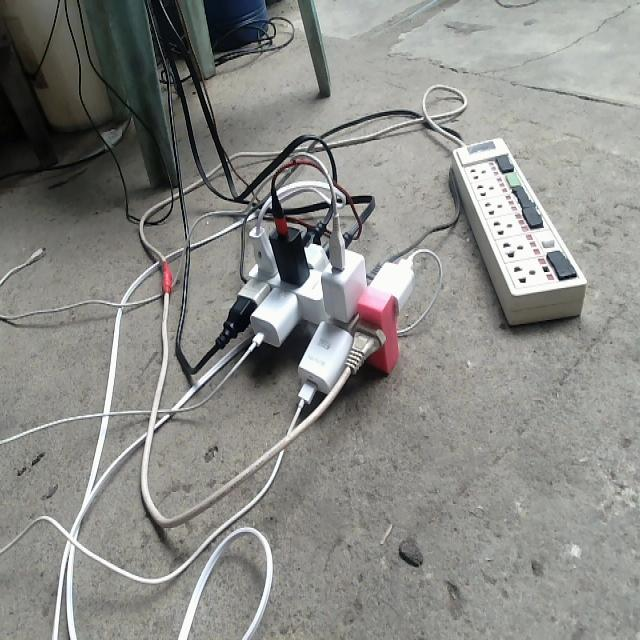-: (215, 197, 421, 411)
